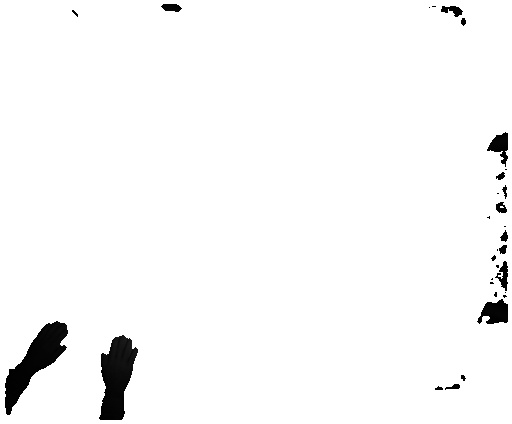hand: (100, 328, 143, 391), (26, 320, 71, 373)
